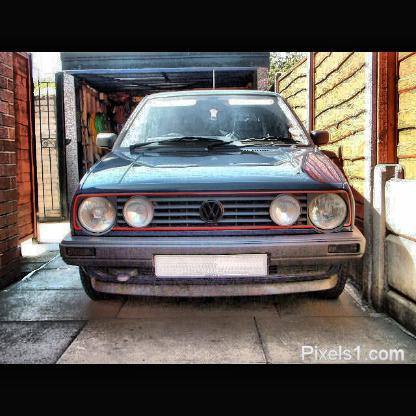Volkswagen Golf Hatchback 1991: (61, 92, 369, 306)
